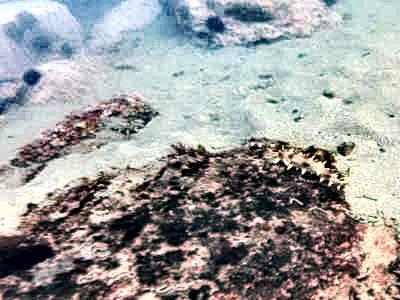urchin: (21, 68, 40, 83)
